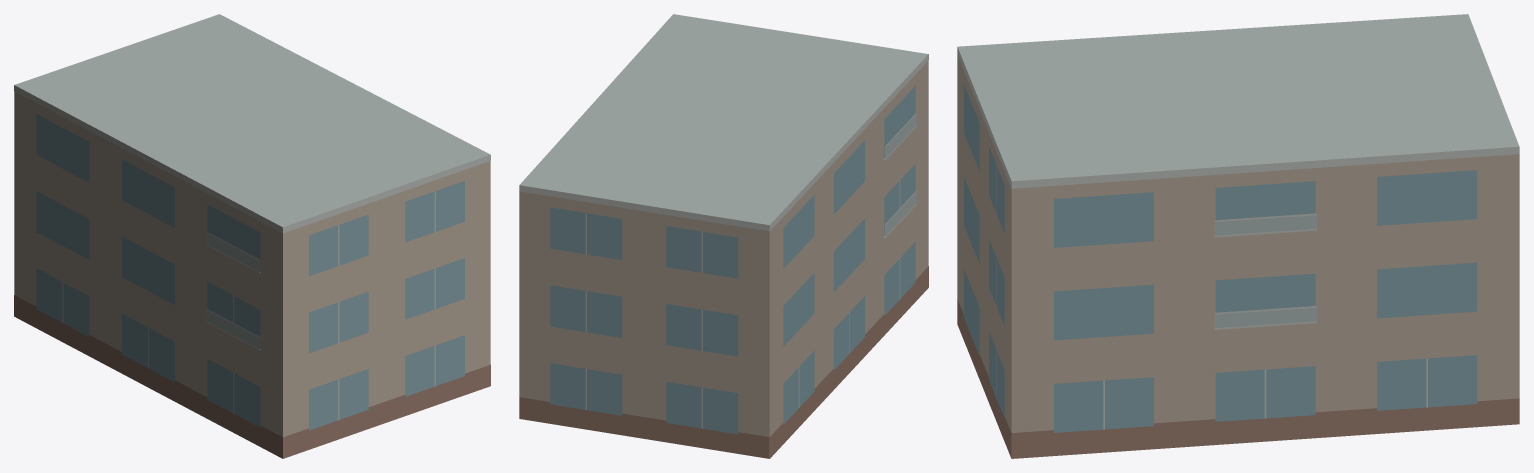
Rendered from survey-upis-32877406.glb.
The picture shows the model from 3 angles, left to right: view 1: azimuth 30°, elevation 25°; view 2: azimuth 150°, elevation 25°; view 3: azimuth 270°, elevation 25°; orthographic projection. The views are drawn at different scales.
Visible parts, largest first — view 1: survey-upis-32877406.tmp; view 2: survey-upis-32877406.tmp; view 3: survey-upis-32877406.tmp.
Boxes of the visible parts, bbox=[...] form: survey-upis-32877406.tmp: bbox=[14, 14, 490, 458]; survey-upis-32877406.tmp: bbox=[519, 14, 928, 458]; survey-upis-32877406.tmp: bbox=[957, 14, 1519, 458].
Size of the model in its own units: 11.85 by 9.15 by 16.81.
